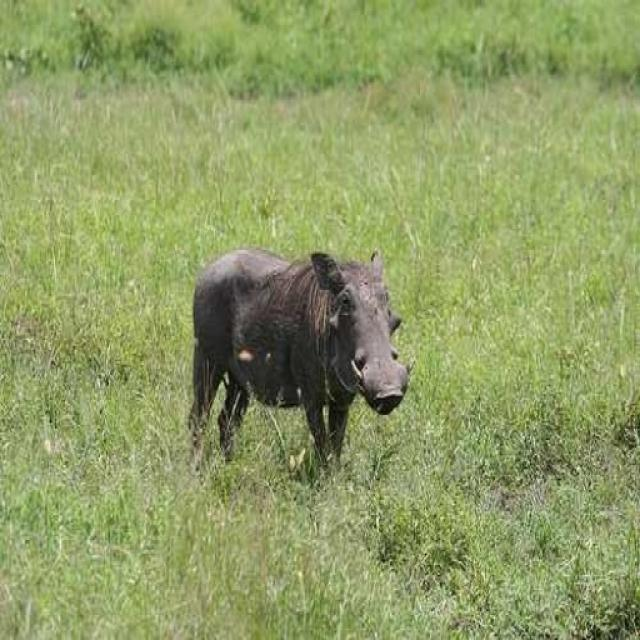pig: (181, 190, 442, 440)
